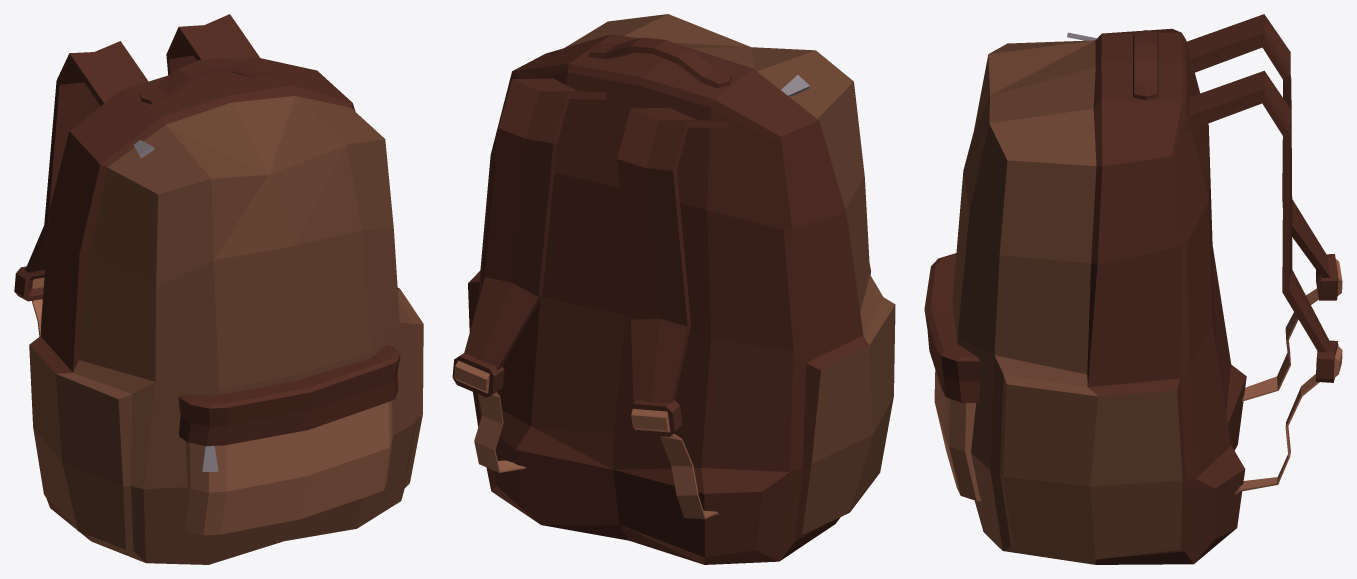
Rendered from Backpack by J-Toastie - N2wKlicUau.glb.
3 renders of one model, left to right at view 1: azimuth 30°, elevation 25°; view 2: azimuth 150°, elevation 25°; view 3: azimuth 270°, elevation 25°, orthographic. The views are drawn at different scales.
Visible parts, largest first — view 1: Backpack; view 2: Backpack; view 3: Backpack.
Boxes of the visible parts, x1,y1,x2,y2 form: Backpack: [14, 14, 423, 564]; Backpack: [452, 14, 895, 564]; Backpack: [924, 14, 1342, 564].
Bounding box in the file's own units: 0.8285 × 1.02 × 0.8282.
